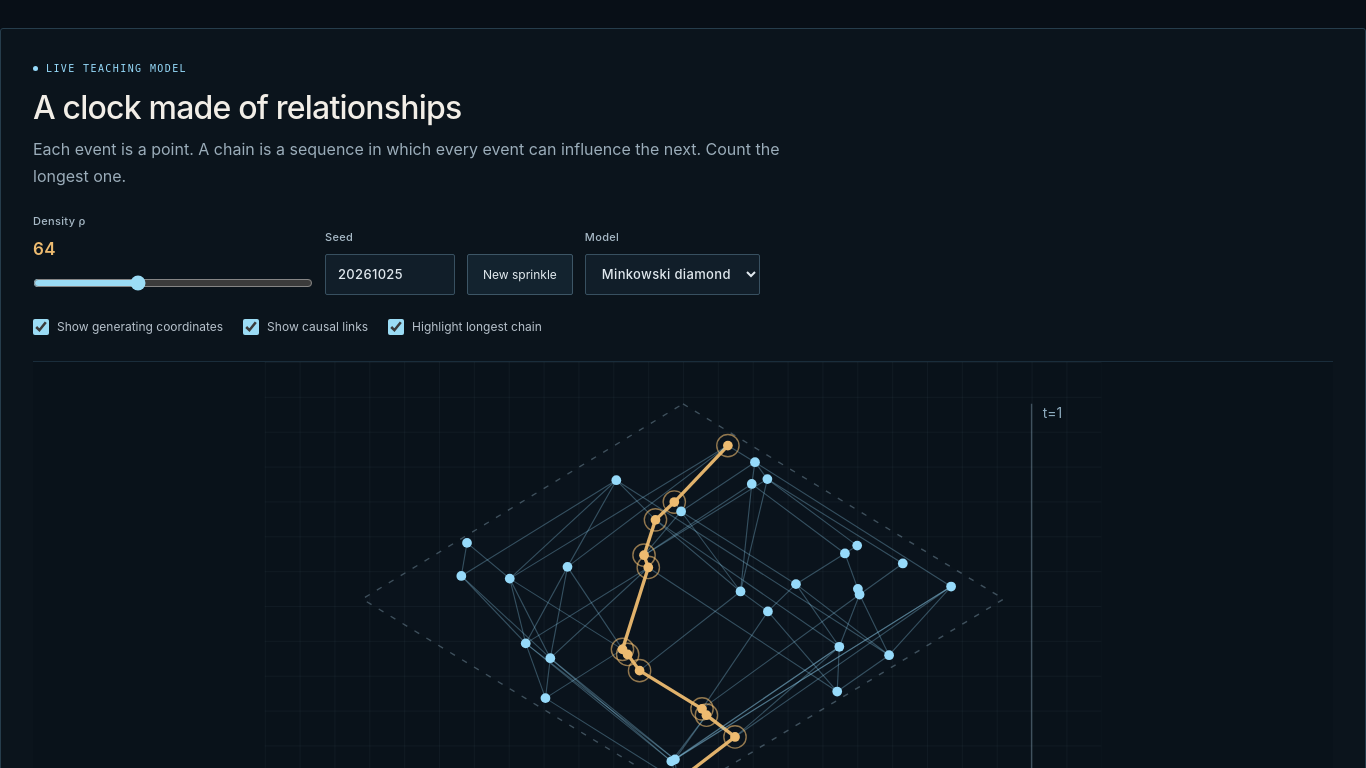
Test: working teaching controls › changes density and switches to the order-only drawing
Set the slider named "Sampling density" to "128": [249, 283] box top-left (33, 271), bottom-right (313, 295)
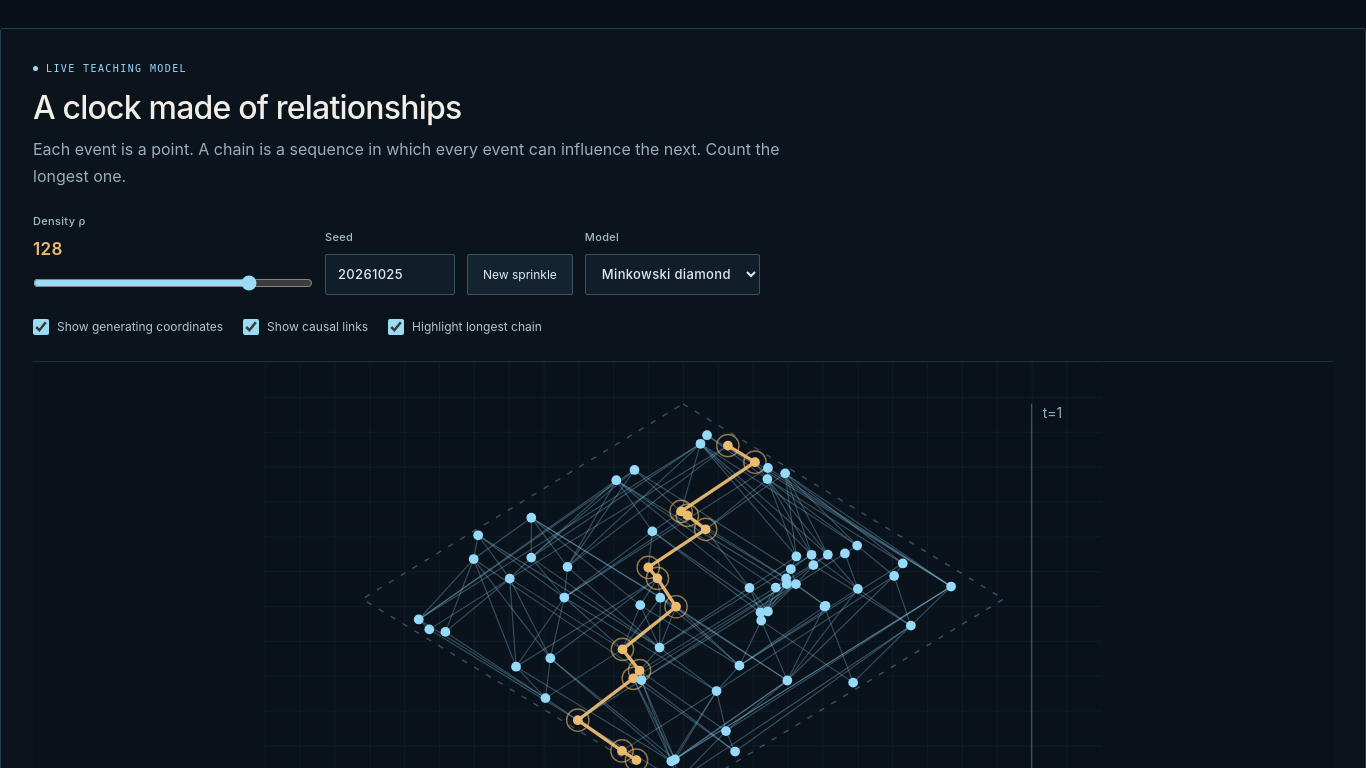
Click the checkbox labelled "Show generating coordinates": [41, 327] box top-left (33, 319), bottom-right (49, 335)
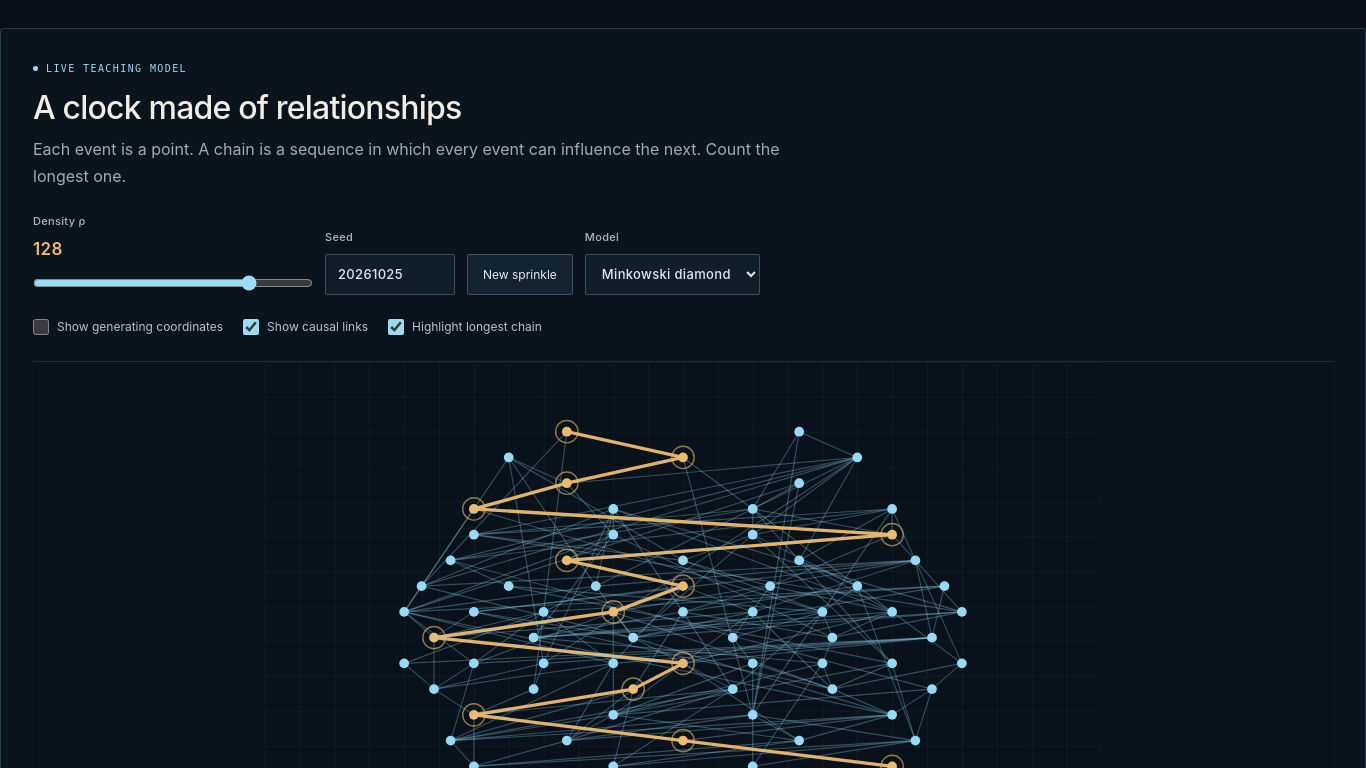
Select "Antichain control" in the dropdown named "Time model": [672, 274] box top-left (585, 254), bottom-right (760, 295)
(page scrolled)
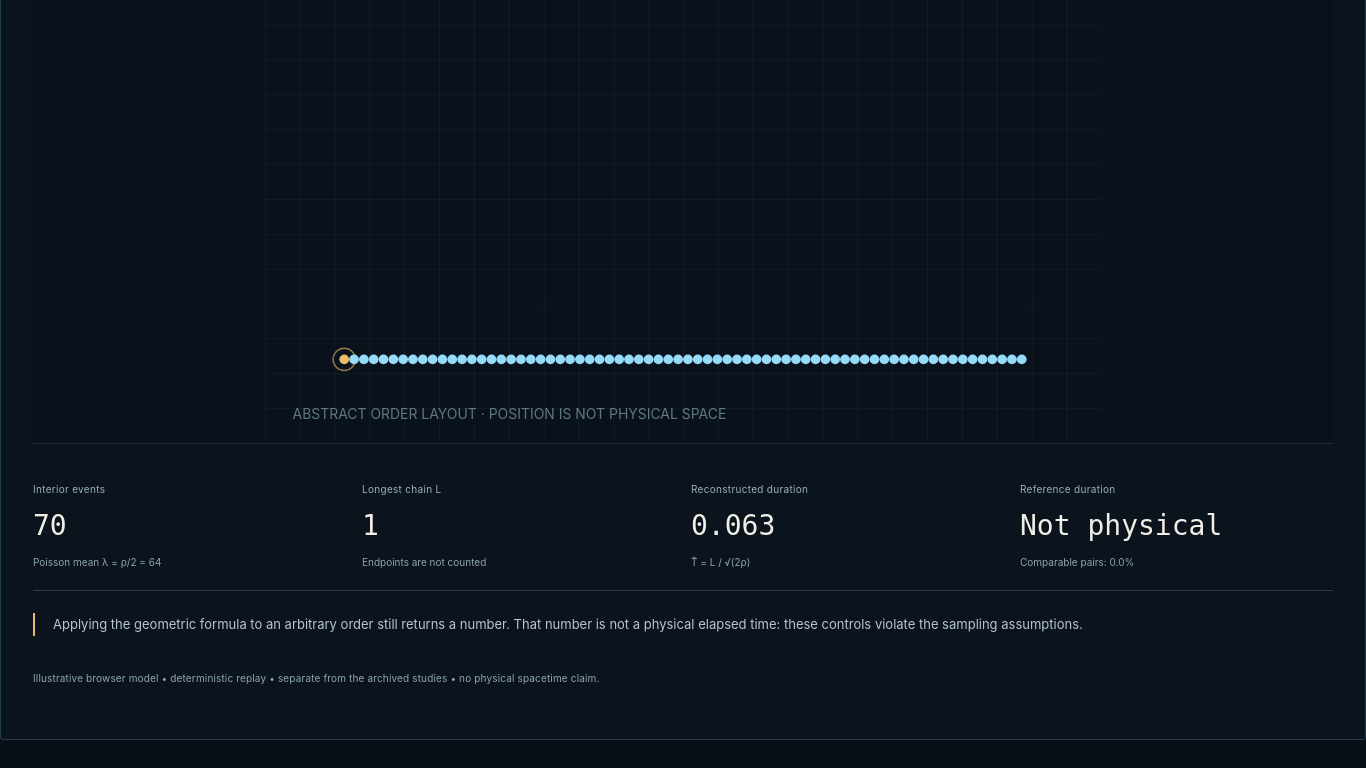
Expected: the text "1" is shown, top-left (362, 509), bottom-right (379, 542)
Now the text "Not physical" is shown, box top-left (1020, 509), bottom-right (1222, 542)
